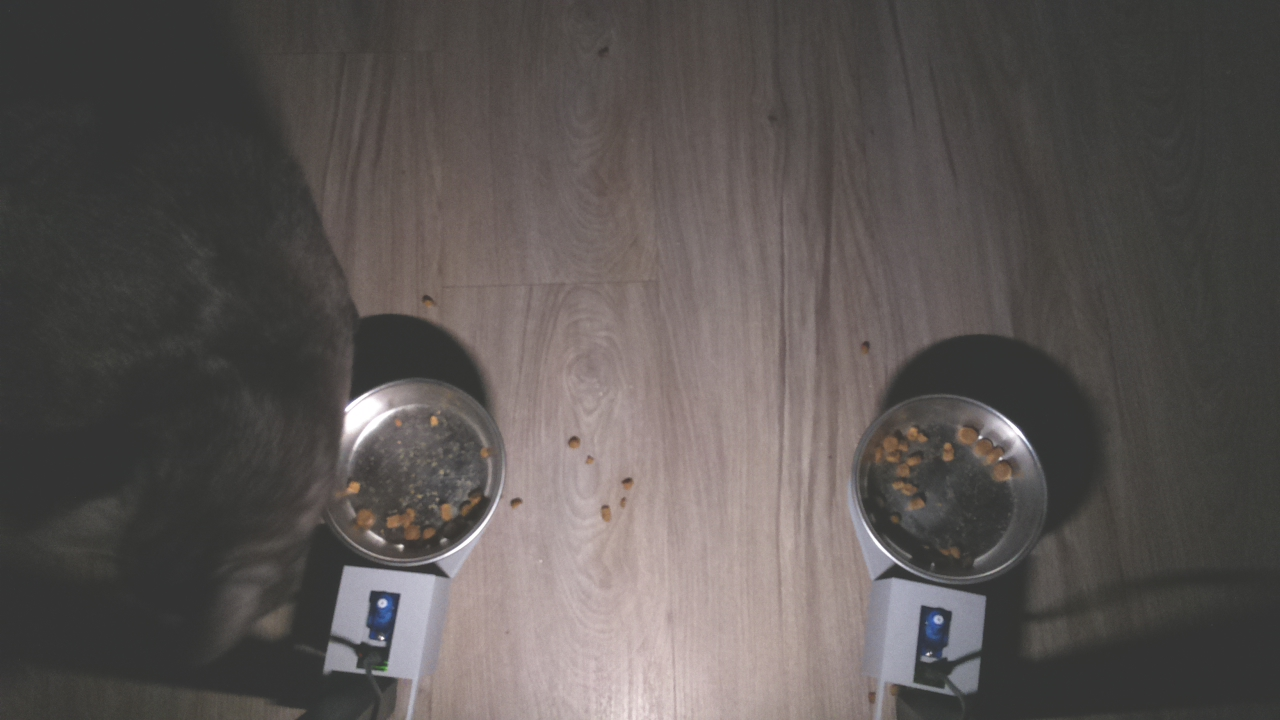open_bowl: (849, 391, 1061, 594), (328, 375, 507, 569)
